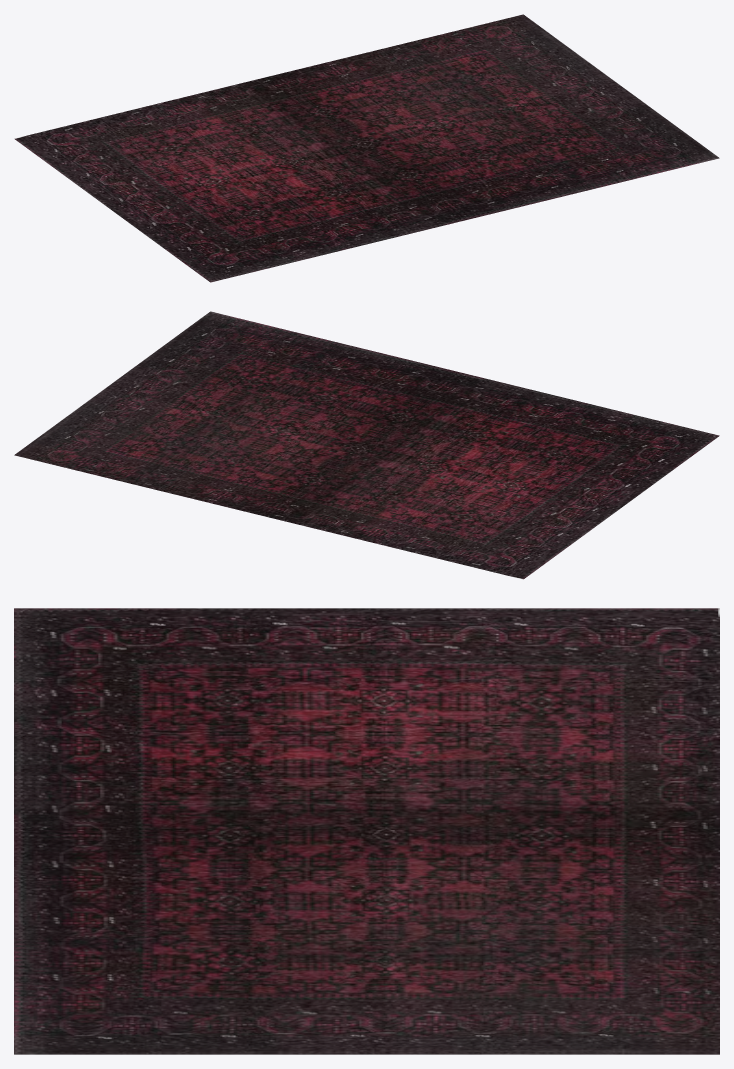
The model's file is roter.Teppich.glb.
The picture shows the model from 3 angles, top to bottom: view 1: azimuth 30°, elevation 25°; view 2: azimuth 150°, elevation 25°; view 3: azimuth 270°, elevation 25°; orthographic projection. The views are drawn at different scales.
Parts seen in each view (by area): view 1: Bildschirmfoto 2025-05-03 um 18.21.19; view 2: Bildschirmfoto 2025-05-03 um 18.21.19; view 3: Bildschirmfoto 2025-05-03 um 18.21.19.
Boxes of the visible parts, bbox=[...] form: Bildschirmfoto 2025-05-03 um 18.21.19: bbox=[14, 14, 719, 282]; Bildschirmfoto 2025-05-03 um 18.21.19: bbox=[14, 311, 719, 579]; Bildschirmfoto 2025-05-03 um 18.21.19: bbox=[14, 608, 719, 1054].
Bounding box in the file's own units: 2.49 × 0 × 1.66.
Materials: 1 (1 with a texture image).
